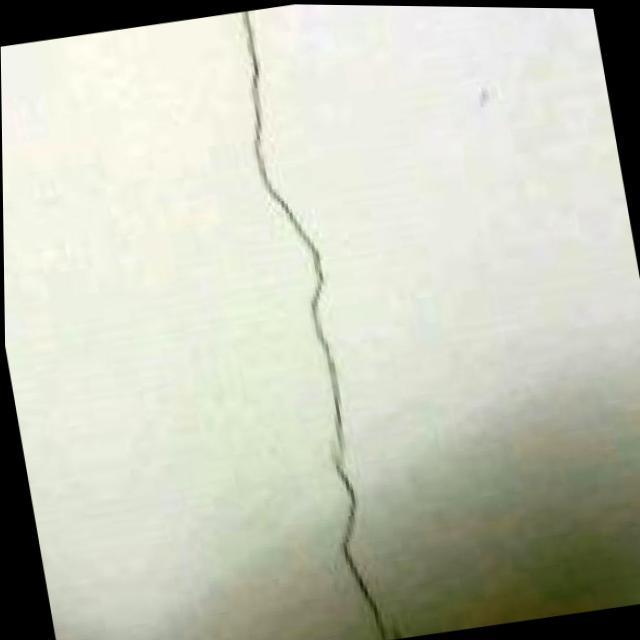Crack: (193, 2, 444, 640)
